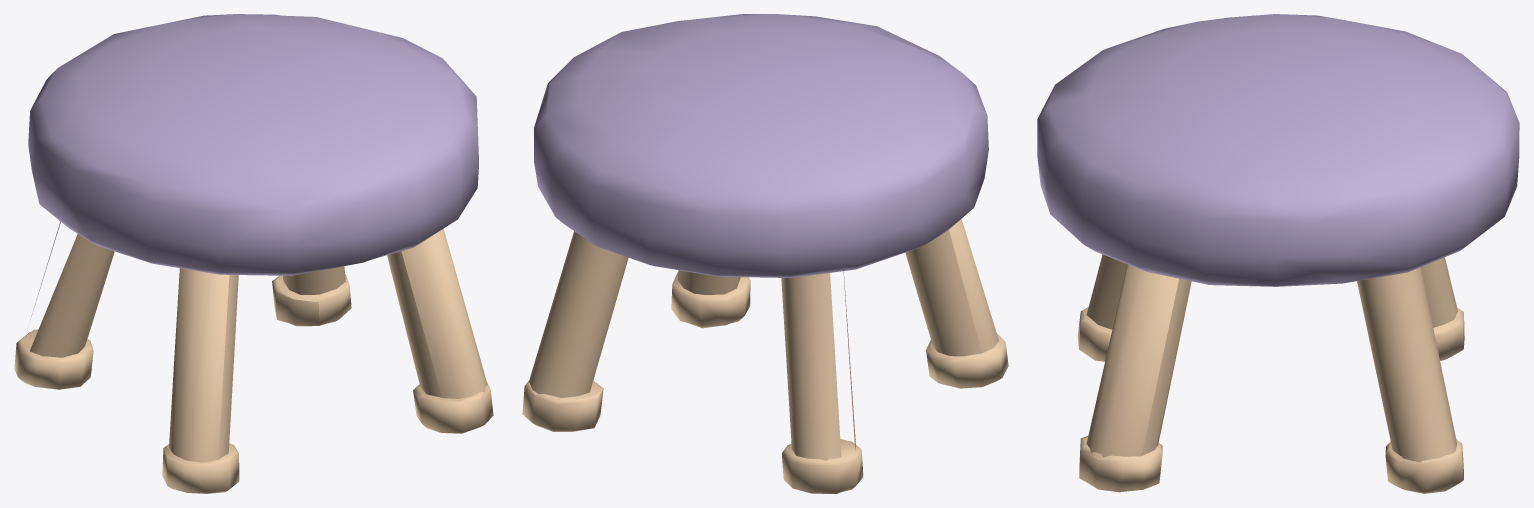
Rendered from bedroom_stool.glb.
3 renders of one model, left to right at view 1: azimuth 30°, elevation 25°; view 2: azimuth 150°, elevation 25°; view 3: azimuth 270°, elevation 25°, orthographic. The views are drawn at different scales.
Bounding box in the file's own units: 0.8 × 0.64 × 0.8142.
